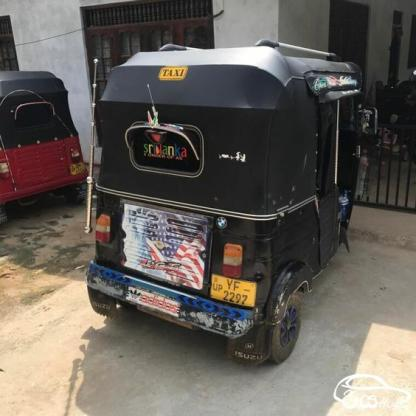number plate: (209, 268, 255, 306)
three wheeler back: (83, 28, 382, 371)
